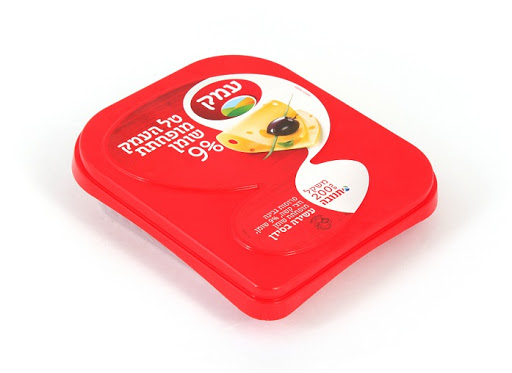Cheese: (71, 53, 438, 321)
